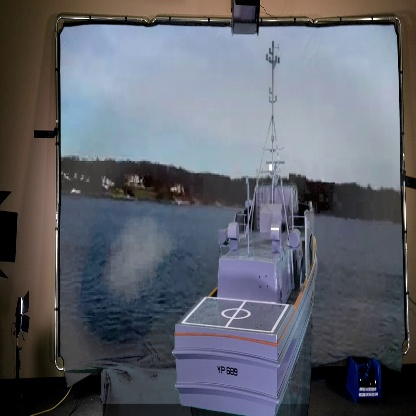YP689: (168, 42, 319, 416)
